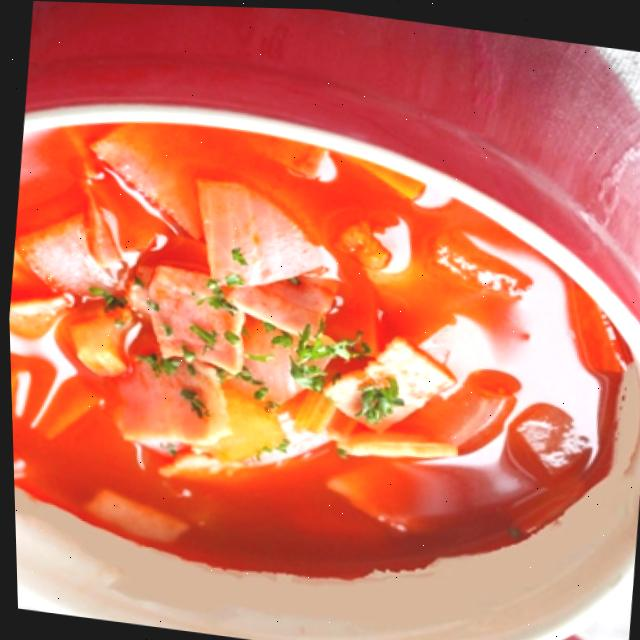汤锅炖物: (1, 58, 640, 633)
